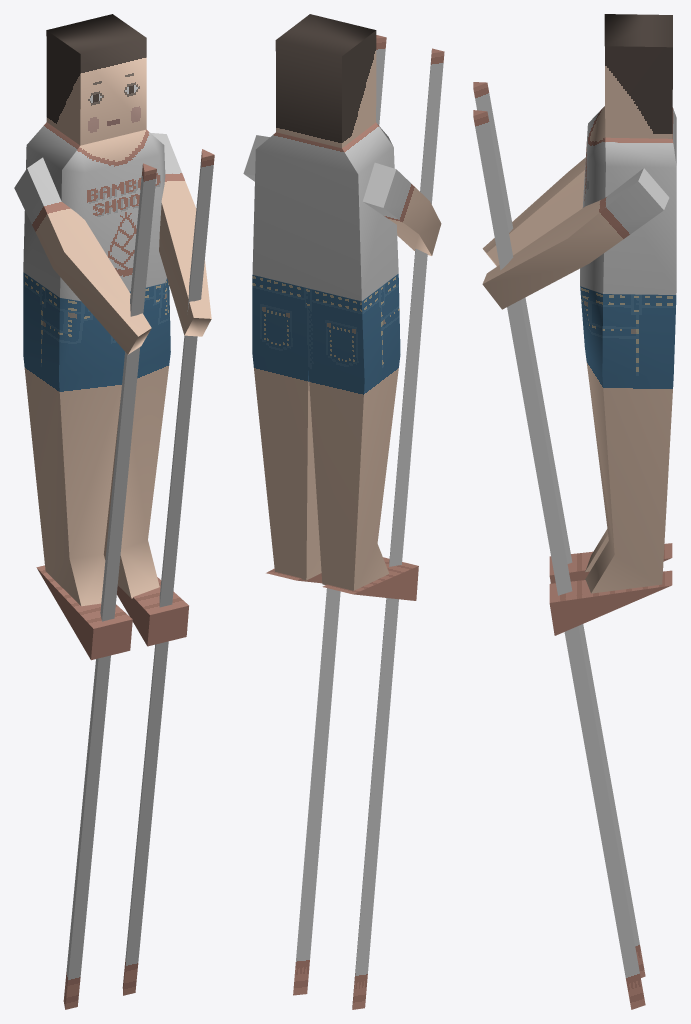
The model's file is 0590_Stilts.glb.
3 views of the same model, side by side, from view 1: azimuth 30°, elevation 25°; view 2: azimuth 150°, elevation 25°; view 3: azimuth 270°, elevation 25° (orthographic).
Visible parts, largest first — view 1: part_0; view 2: part_0; view 3: part_0.
Part boxes in pixels (x1,y1,x2,y2): part_0: [14, 14, 214, 1009]; part_0: [243, 14, 444, 1009]; part_0: [473, 14, 676, 1009].
Size of the model in its own units: 0.3352 by 2.21 by 0.4242.
Materials: 1 (1 with a texture image).
